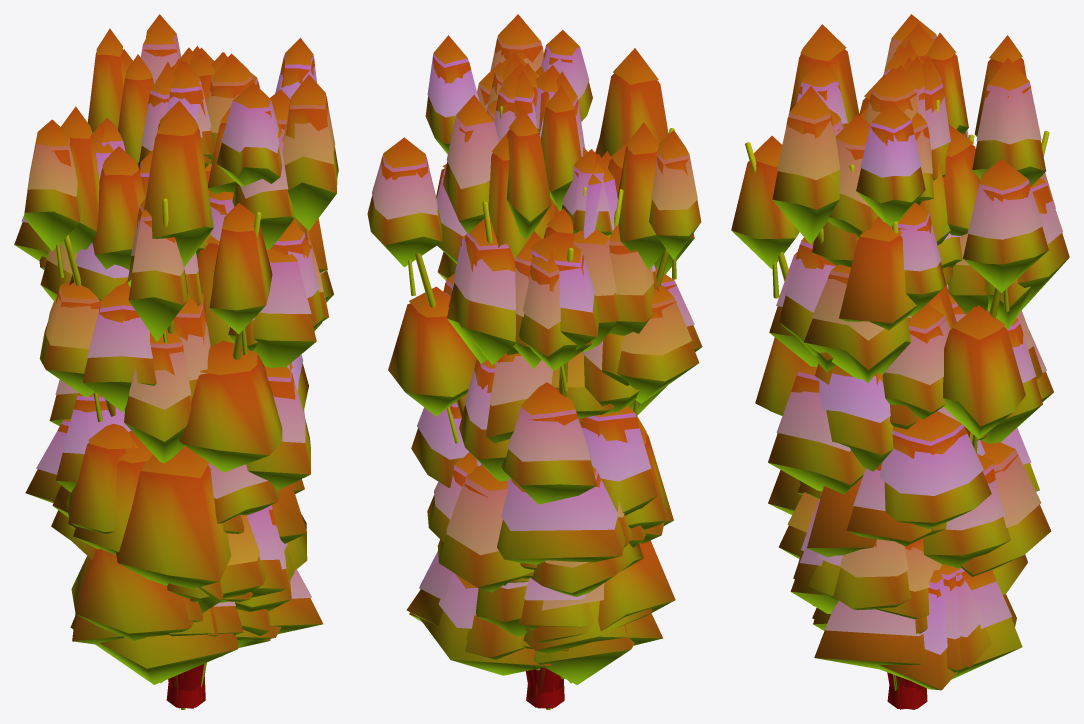
File: dwarfpine.glb
The picture shows the model from 3 angles, left to right: view 1: azimuth 30°, elevation 25°; view 2: azimuth 150°, elevation 25°; view 3: azimuth 270°, elevation 25°; orthographic projection. The views are drawn at different scales.
Visible parts, largest first — view 1: v2, v8, v0, v7, v4, v6, v7_far, v0_far, v8_far, v9, v1, v1_far (+7 smaller); view 2: v8, v2, v4, v0, v7, v8_far, v6, v2_far, v3, v1, v4_far, v7_far (+3 smaller); view 3: v8, v3, v2, v0, v4, v7, v3_far, v2_far, v8_far, v4_far, v1, v7_far (+3 smaller).
Part boxes in pixels (x1,y1,x2,y2): v2: [55, 74, 338, 707]; v8: [24, 53, 282, 708]; v0: [71, 28, 333, 640]; v7: [123, 49, 308, 709]; v4: [93, 14, 321, 647]; v6: [51, 83, 282, 560]; v7_far: [70, 62, 306, 684]; v0_far: [69, 47, 193, 688]; v8_far: [14, 52, 322, 633]; v9: [72, 61, 252, 707]; v1: [118, 54, 218, 636]; v1_far: [169, 61, 243, 636]; v8: [367, 52, 701, 708]; v2: [448, 14, 694, 708]; v4: [437, 66, 652, 707]; v0: [437, 62, 702, 659]; v7: [476, 48, 668, 709]; v8_far: [497, 56, 625, 695]; v6: [531, 30, 643, 596]; v2_far: [419, 68, 654, 687]; v3: [411, 35, 555, 578]; v1: [476, 86, 581, 466]; v4_far: [409, 63, 631, 622]; v7_far: [533, 71, 634, 684]; v8: [731, 14, 1055, 709]; v3: [856, 101, 991, 681]; v2: [768, 23, 1069, 709]; v0: [797, 35, 1026, 685]; v4: [769, 58, 1051, 679]; v7: [789, 24, 1042, 690]; v3_far: [839, 65, 931, 687]; v2_far: [890, 59, 1022, 679]; v8_far: [814, 65, 1039, 670]; v4_far: [879, 56, 957, 690]; v1: [911, 32, 985, 455]; v7_far: [807, 40, 915, 686].
Size of the model in its own units: 5.93 by 12.62 by 5.84.
